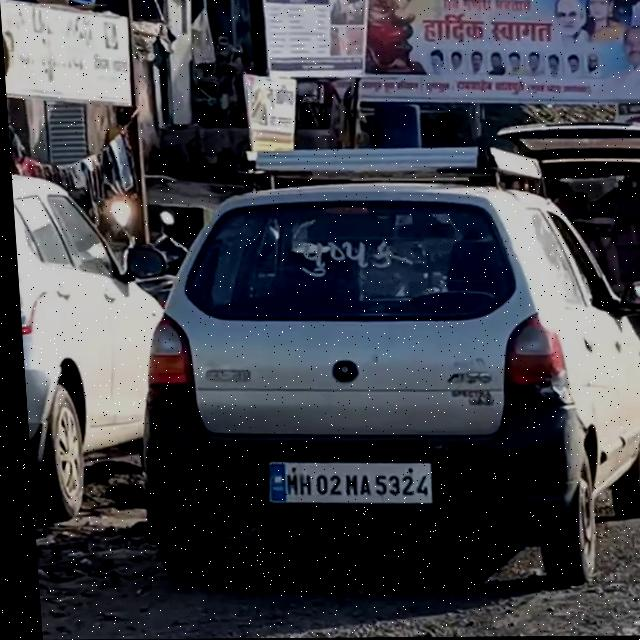plate: (257, 459, 429, 507)
